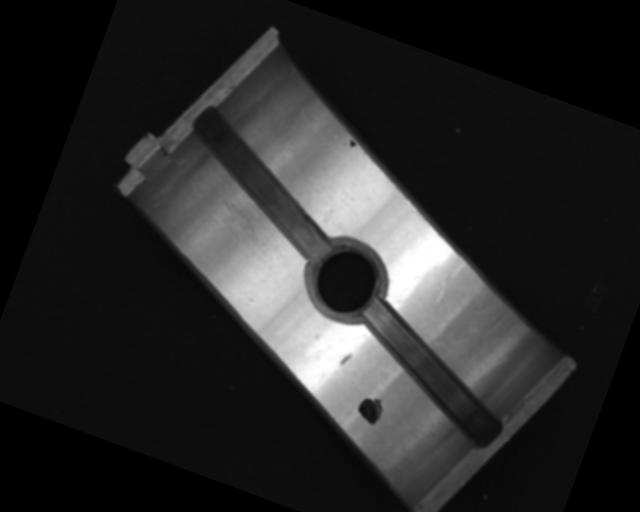blot: (352, 392, 387, 428), (345, 136, 359, 150)
bruise: (430, 254, 469, 309), (339, 350, 353, 369)
gap: (164, 105, 360, 263), (336, 299, 525, 450)
hole: (296, 229, 395, 332)
scratch: (188, 185, 287, 264)
